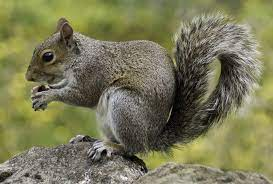squirrel: (24, 12, 262, 157)
